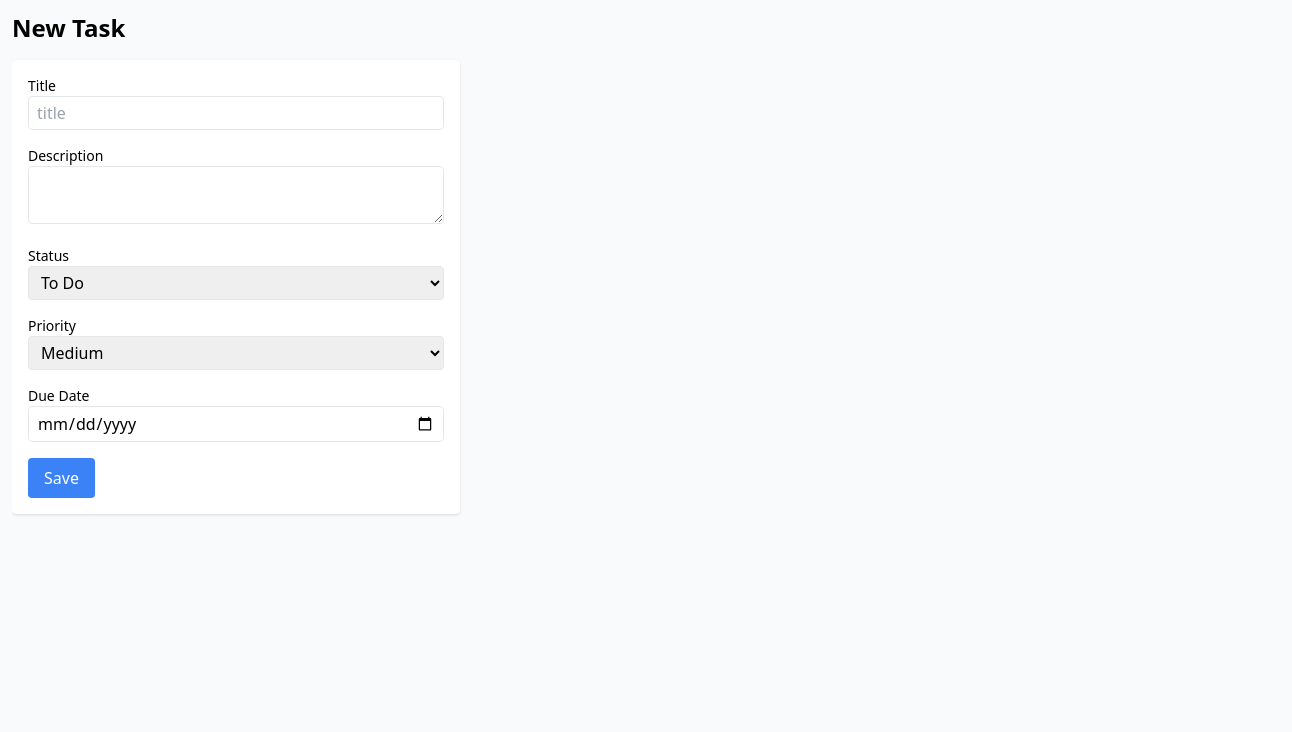
Scenario: Task CRUD Integration › creates a new task via NewTaskPage and shows it in TaskList
Note: Rellenar formulario en la página de nueva tarea
Type "Test Task" into the field with placeholder "title". click: point(236, 113)
box: top-left (28, 96), bottom-right (444, 130)
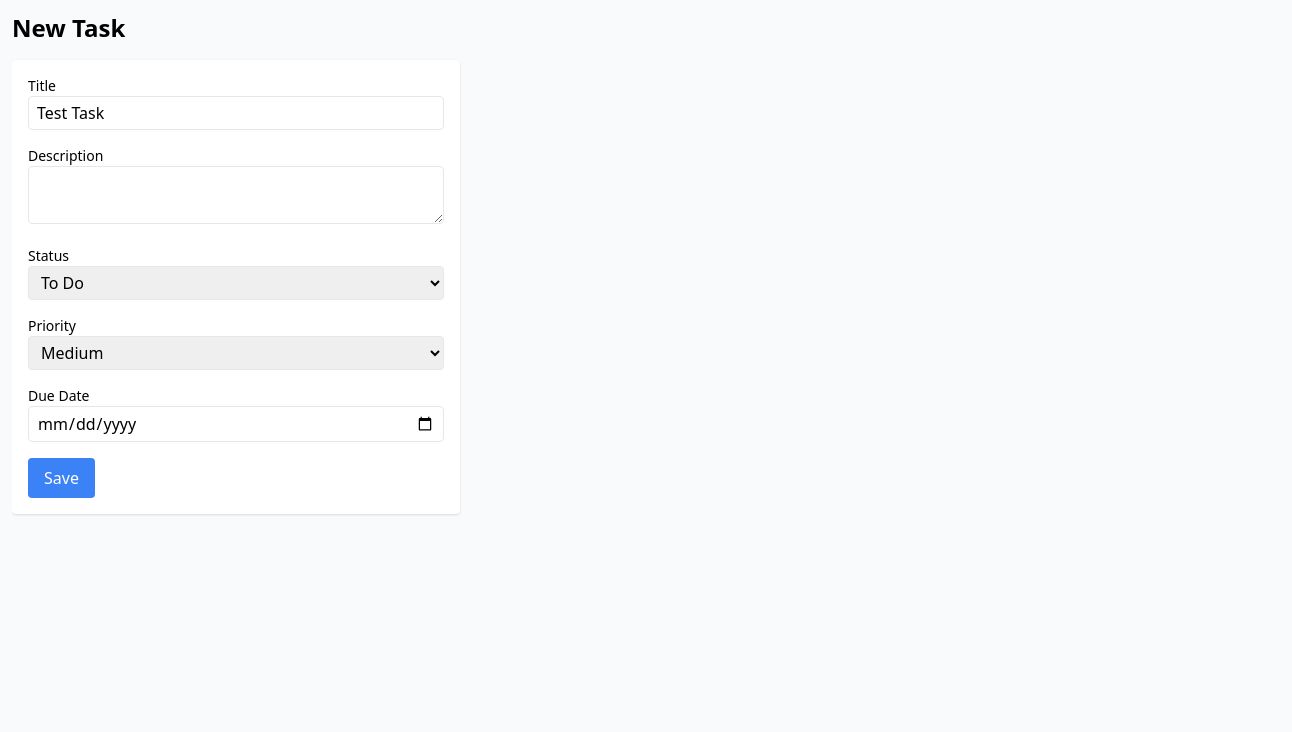
Note: Enviar formulario
Click the button "Save". click: point(61, 478)
box: top-left (28, 458), bottom-right (95, 498)
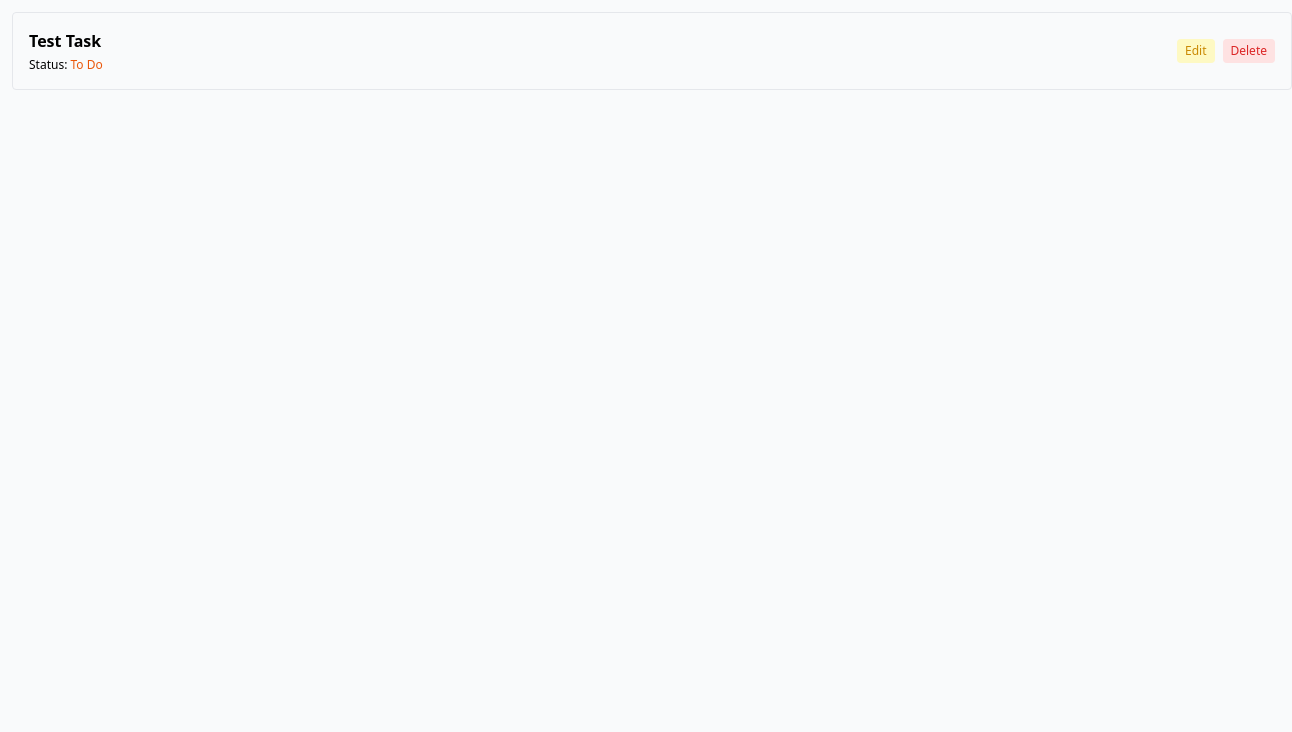
Check: the heading "Test Task" is shown, box top-left (29, 29), bottom-right (103, 53)
